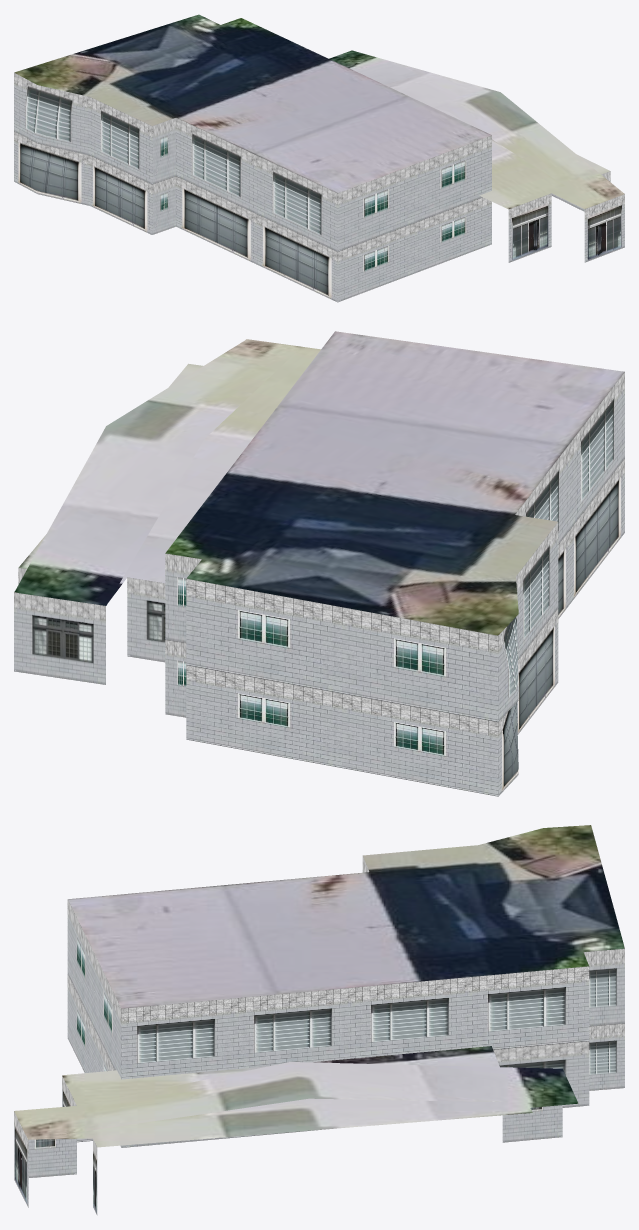
The model's file is tile_LOD8_r4_c4.glb.
3 views of the same model, one above another, from view 1: azimuth 30°, elevation 25°; view 2: azimuth 150°, elevation 25°; view 3: azimuth 270°, elevation 25° (orthographic). The views are drawn at different scales.
Bounding box in the file's own units: 27.63 × 7.14 × 28.36.
9 materials, 9 textured.
